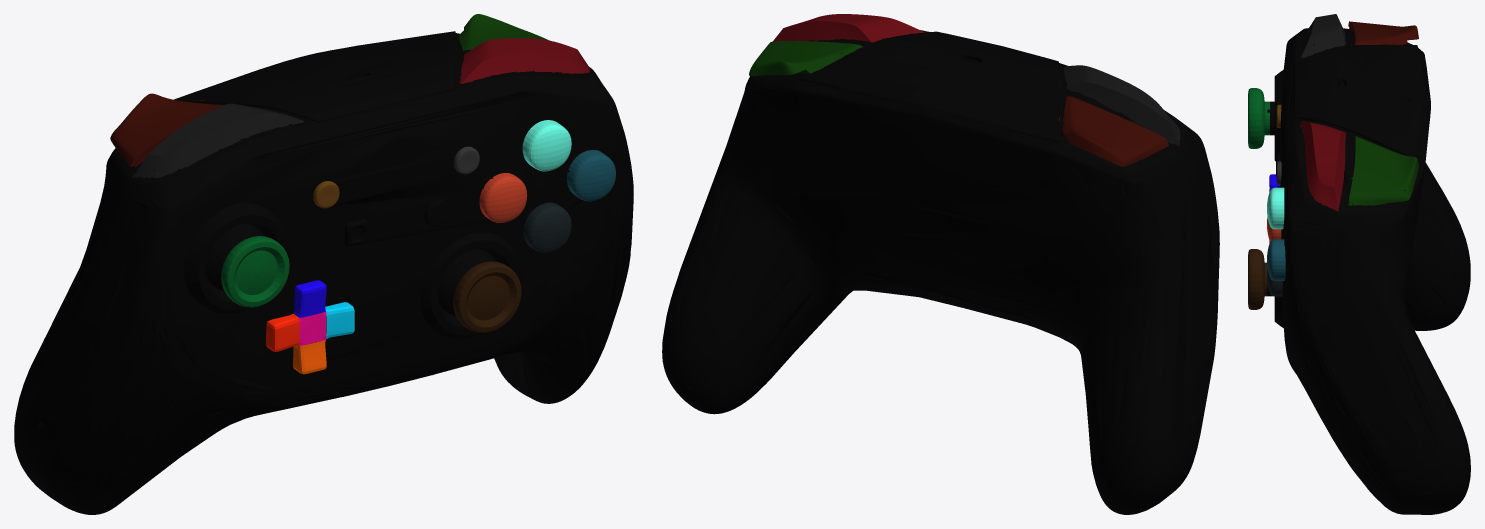
Rendered from Vallarta_Christopher_HW2_Controller.obj.
3 renders of one model, left to right at view 1: azimuth 30°, elevation 25°; view 2: azimuth 150°, elevation 25°; view 3: azimuth 270°, elevation 25°, orthographic. The views are drawn at different scales.
Parts seen in each view (by area): view 1: Vallarta_Christopher_HW2_Controller:Mesh; view 2: Vallarta_Christopher_HW2_Controller:Mesh; view 3: Vallarta_Christopher_HW2_Controller:Mesh.
Part boxes in pixels (bbox=[...]): Vallarta_Christopher_HW2_Controller:Mesh: bbox=[14, 14, 633, 514]; Vallarta_Christopher_HW2_Controller:Mesh: bbox=[662, 14, 1219, 514]; Vallarta_Christopher_HW2_Controller:Mesh: bbox=[1248, 14, 1470, 514].
Size of the model in its own units: 5.96 by 4.15 by 2.46.
